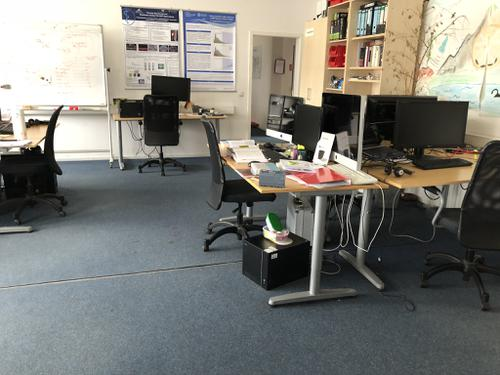device: (260, 170, 286, 189)
